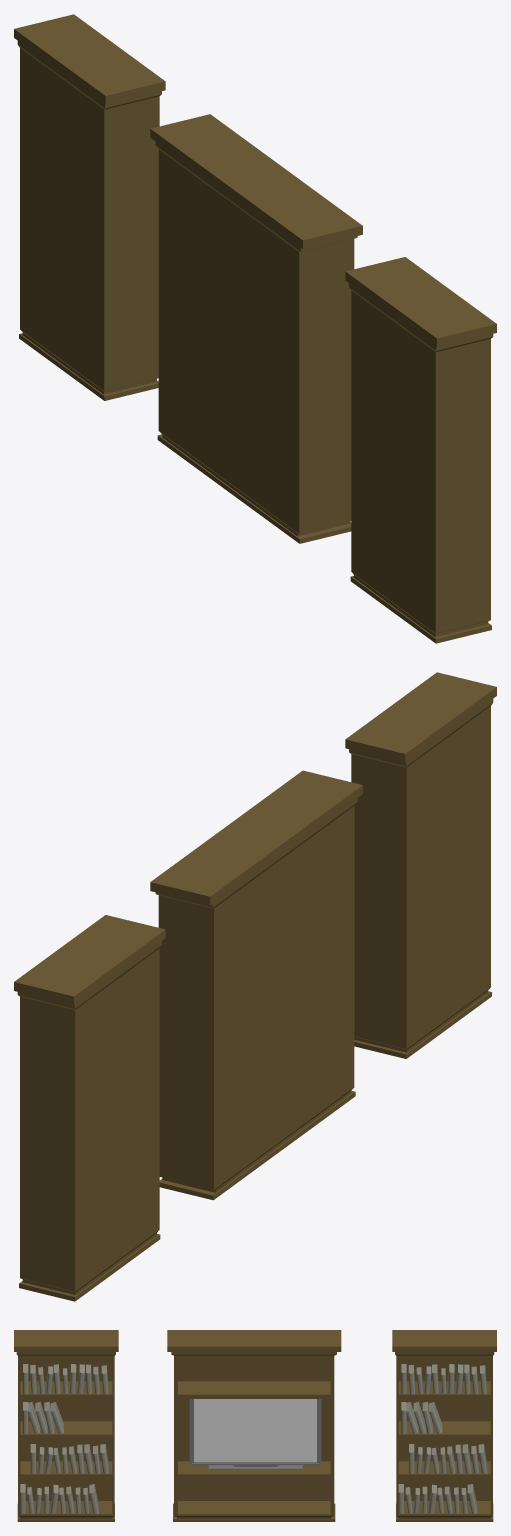
Rendered from sufragerie dulapuri+televizor.fbx.
The picture shows the model from 3 angles, top to bottom: view 1: azimuth 30°, elevation 25°; view 2: azimuth 150°, elevation 25°; view 3: azimuth 270°, elevation 25°; orthographic projection. The views are drawn at different scales.
Parts seen in each view (by area): view 1: Cube.061; view 2: Cube.061; view 3: Cube.061.
Part boxes in pixels (left/top/right/bottom): Cube.061: left=14, top=14, right=496, bottom=643; Cube.061: left=14, top=672, right=496, bottom=1301; Cube.061: left=14, top=1330, right=496, bottom=1521.
Bounding box in the file's own units: 81.75 × 401 × 999.
